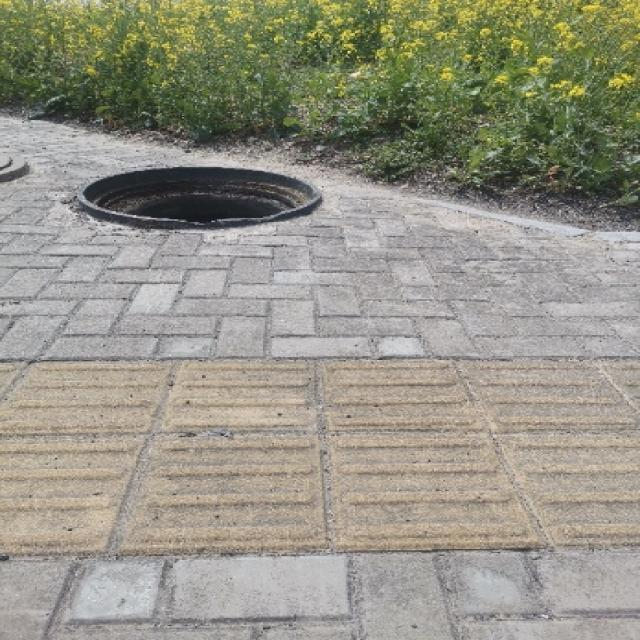Faulty: (66, 155, 346, 250)
